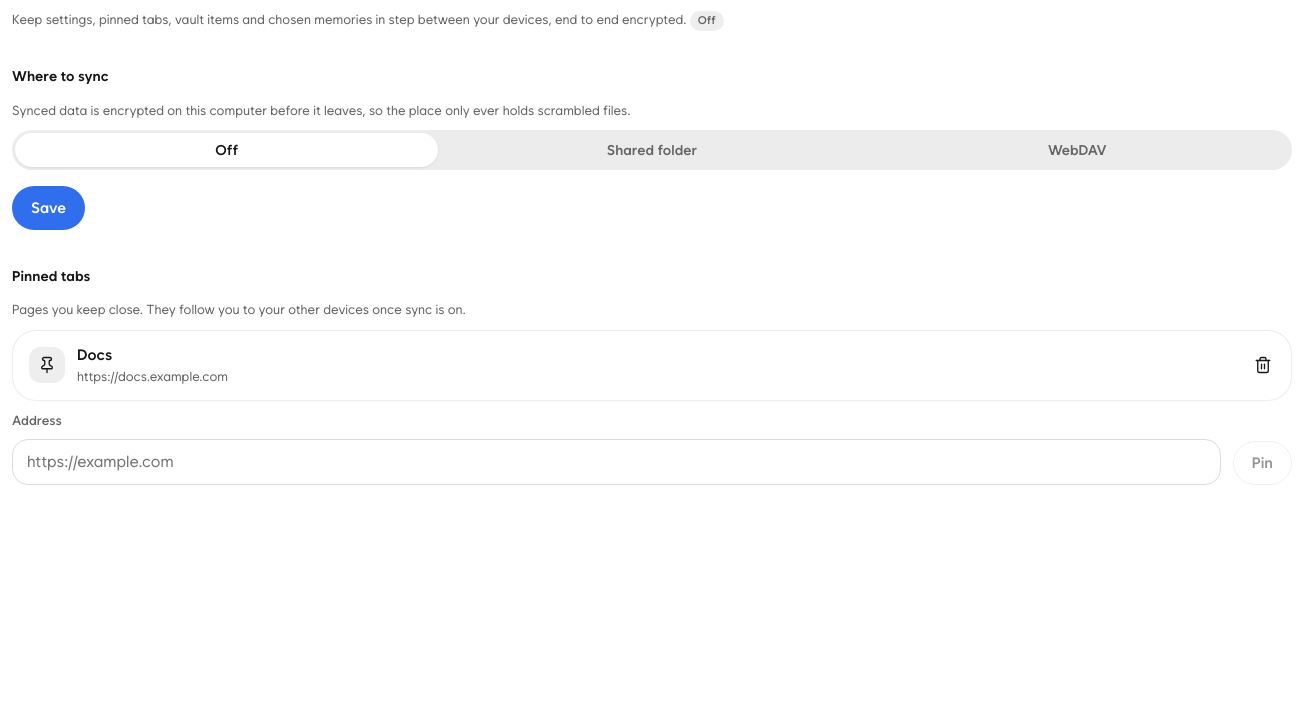
Test: SyncPage › lists, adds and removes pinned tabs
The width and height of the screenshot is (1304, 720).
Expected: the text "Docs" is shown, top-left (77, 344), bottom-right (112, 366)
Type "https://news.example.com" into the field labelled "Address" at (616, 462), box top-left (12, 439), bottom-right (1221, 485)
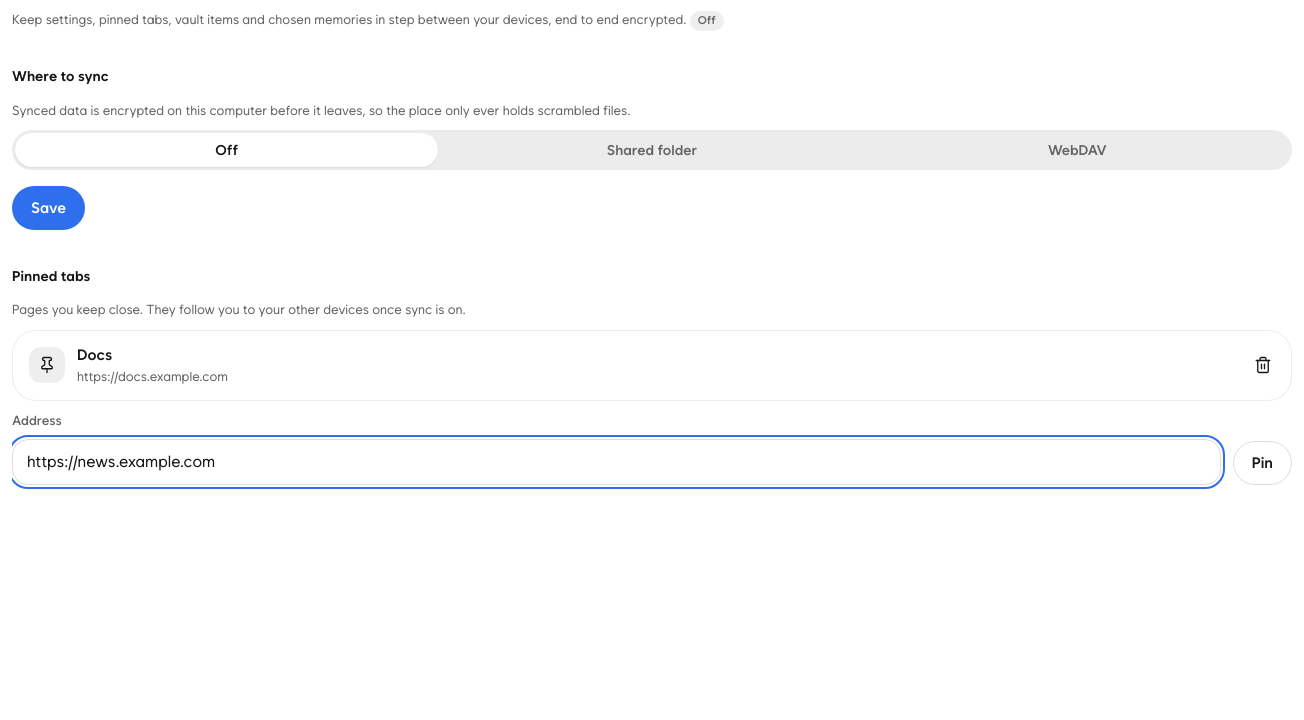
Click the button "Pin" at (1262, 463), box top-left (1233, 441), bottom-right (1292, 485)
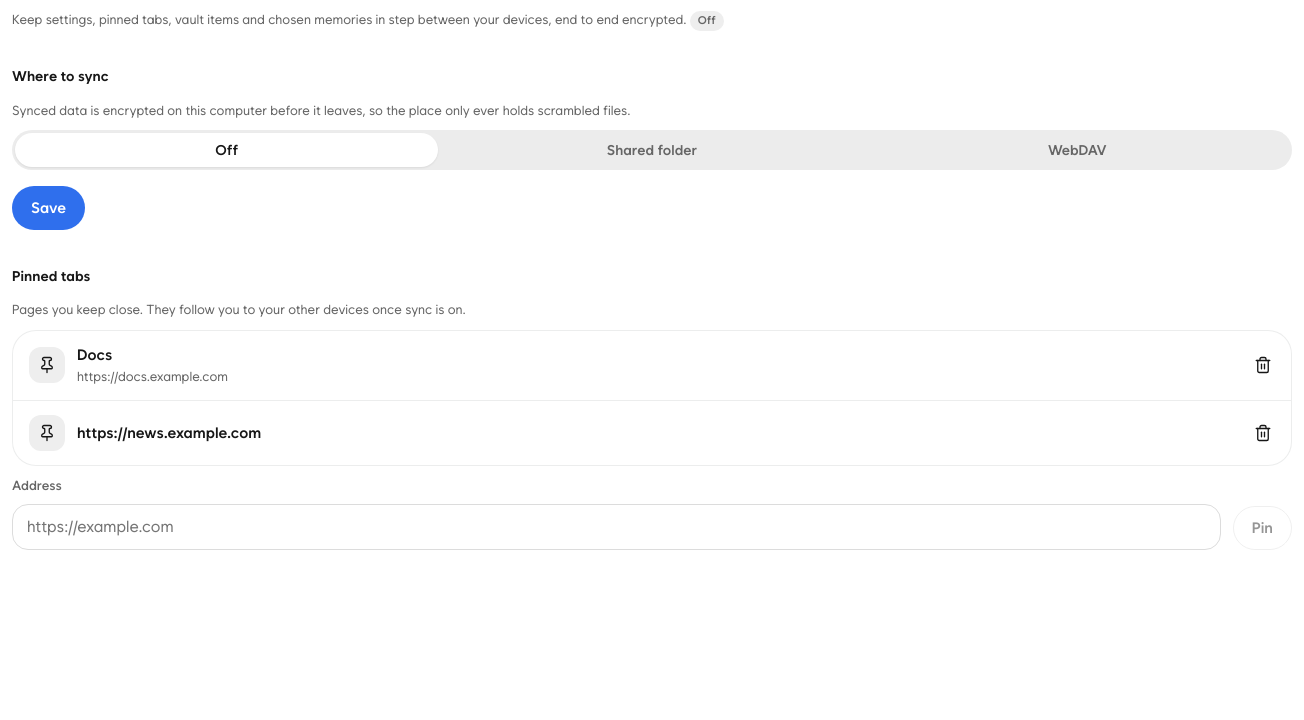
Expected: the text "https://news.example.com" is shown, top-left (77, 423), bottom-right (261, 444)
Click the button named "Unpin Docs" at (1263, 365), box top-left (1243, 345), bottom-right (1283, 385)
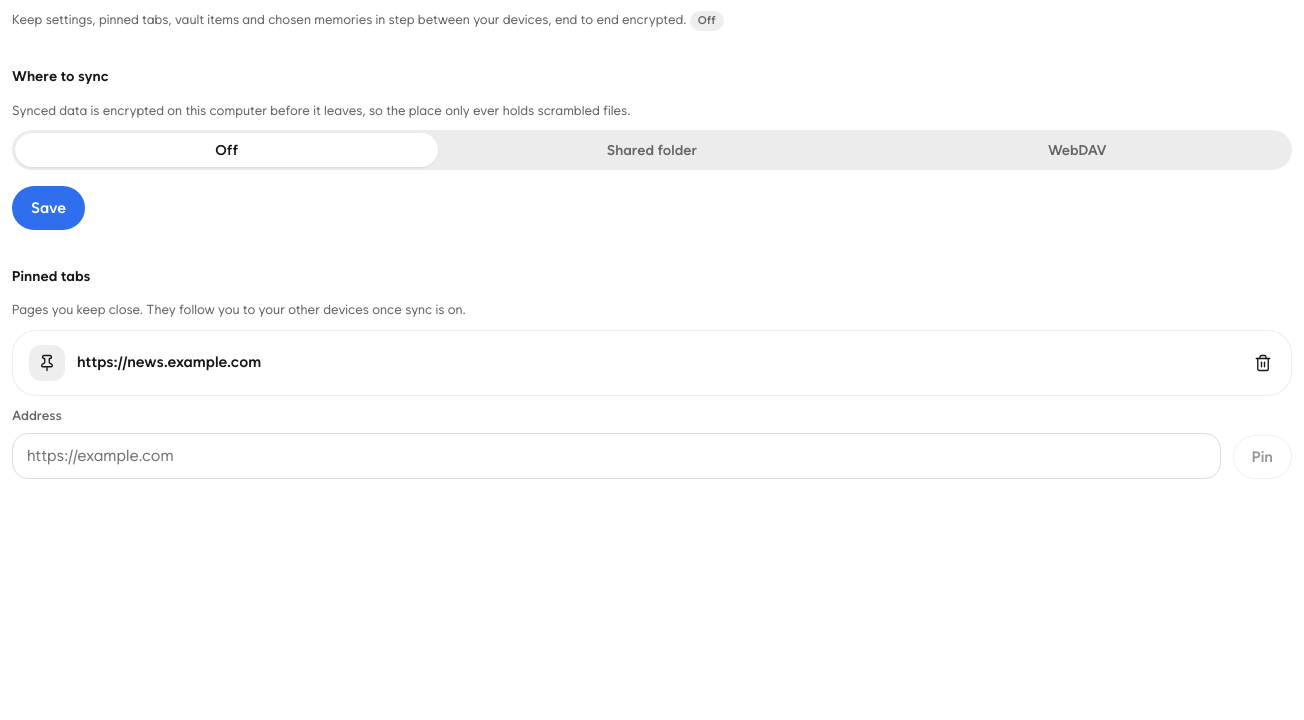
Expected: the text "https://news.example.com" is shown, top-left (77, 352), bottom-right (261, 373)
Expected: the text "Docs" is gone
